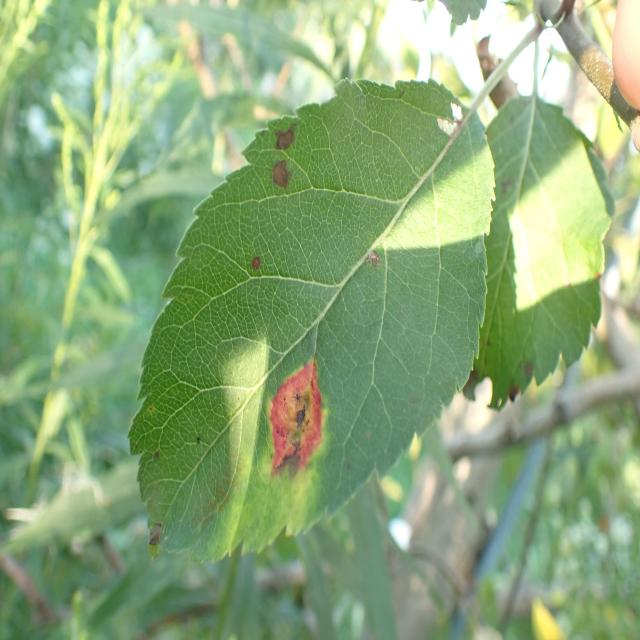rust: (128, 77, 496, 566)
